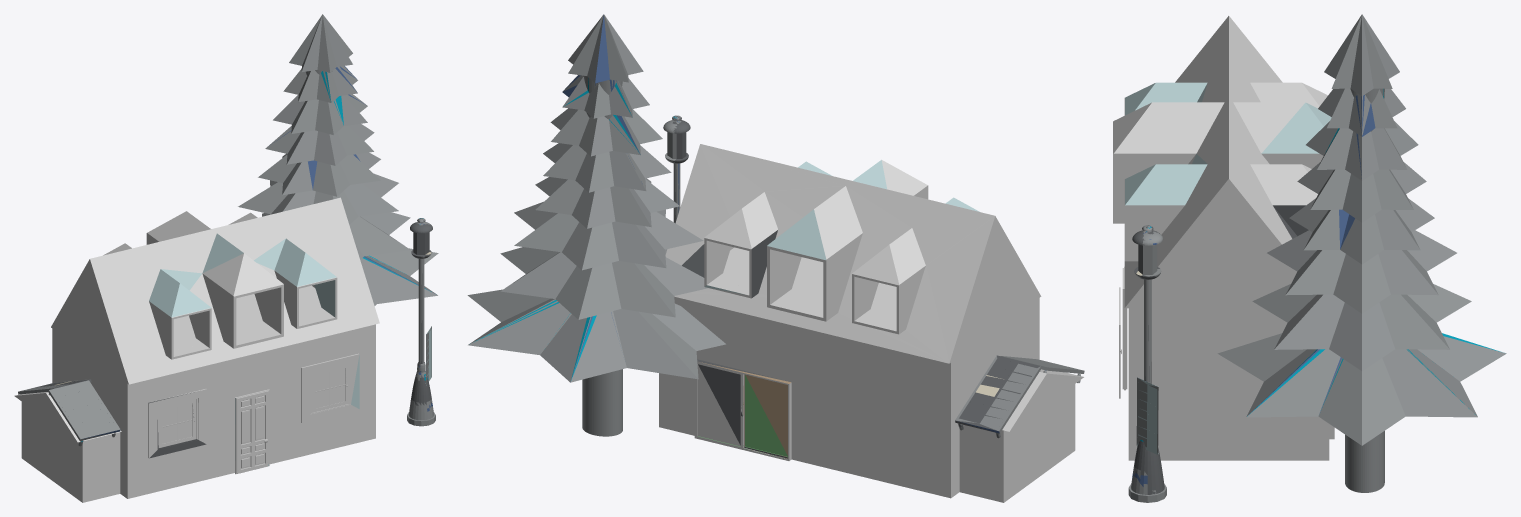
Rendered from itsahouse.glb.
3 renders of one model, left to right at view 1: azimuth 30°, elevation 25°; view 2: azimuth 150°, elevation 25°; view 3: azimuth 270°, elevation 25°, orthographic. The views are drawn at different scales.
Visible parts, largest first — view 1: Mesh_Mesh_head_geo.001_lambert2SG.001; view 2: Mesh_Mesh_head_geo.001_lambert2SG.001; view 3: Mesh_Mesh_head_geo.001_lambert2SG.001.
Boxes of the visible parts, bbox=[...] form: Mesh_Mesh_head_geo.001_lambert2SG.001: bbox=[14, 14, 438, 502]; Mesh_Mesh_head_geo.001_lambert2SG.001: bbox=[467, 14, 1084, 502]; Mesh_Mesh_head_geo.001_lambert2SG.001: bbox=[1113, 14, 1506, 502].
Size of the model in its own units: 176 by 134 by 102.
